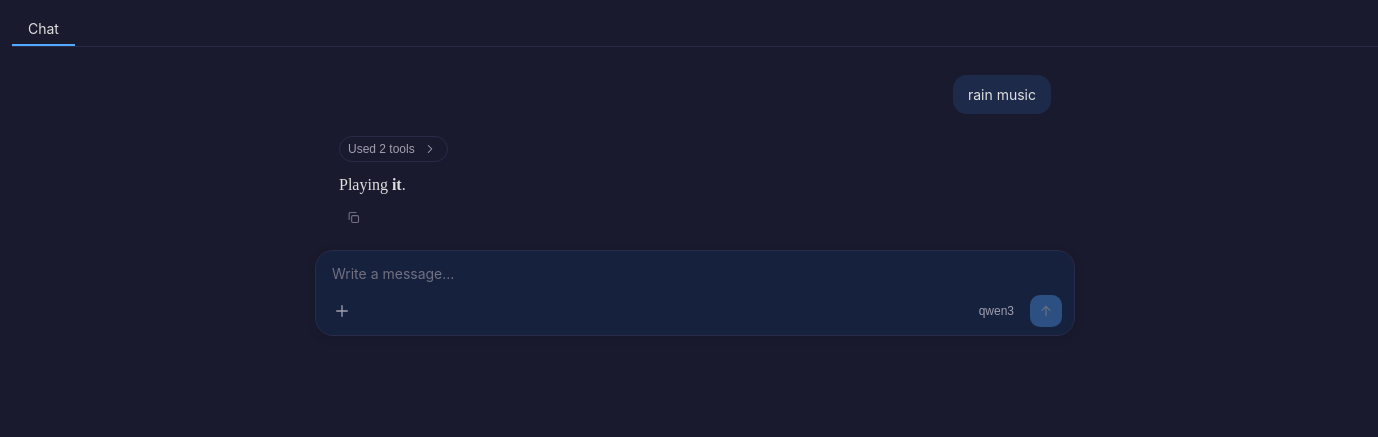
plugin chat node › folds tool steps until the summary is clicked
Check: the text "Used 2 tools" is shown, box [348, 142, 415, 156]
Check: the text "play_tracks(trackIds: [3])" is not shown
What coordinates should you click on to do the following:
click the button "Used 2 tools"
I would click on:
 (393, 149)
Its box is [339, 136, 448, 162].
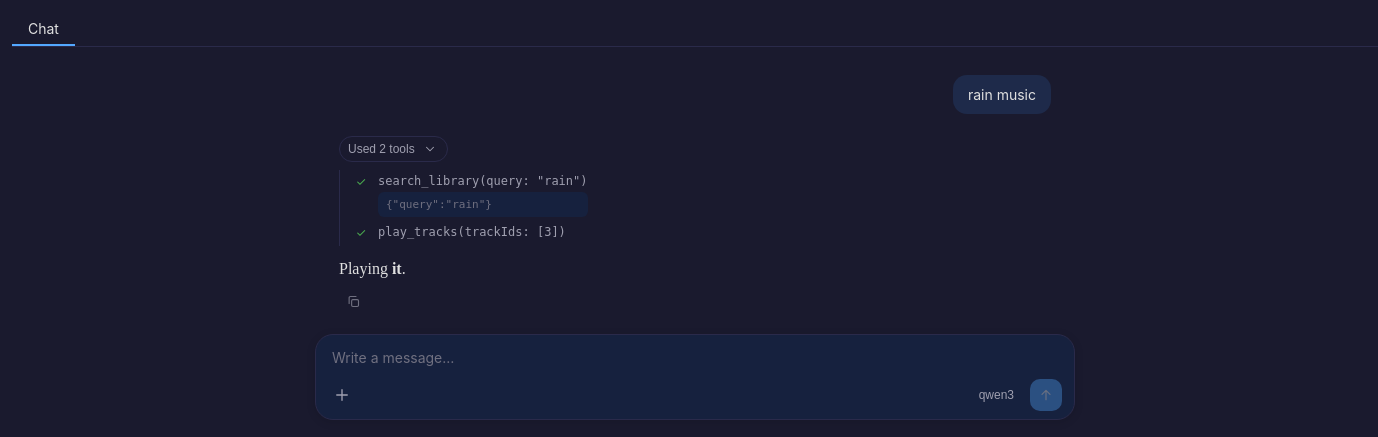
Check: the text "play_tracks(trackIds: [3])" is shown, box [378, 225, 588, 239]
